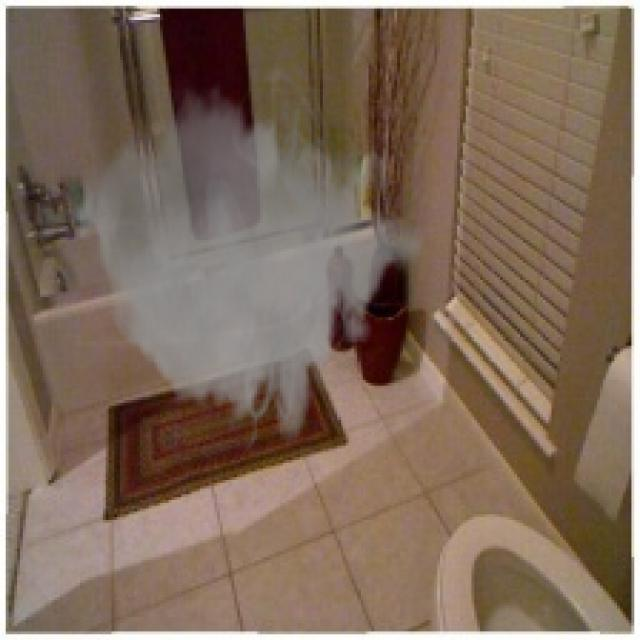Smoke: (71, 54, 426, 457)
